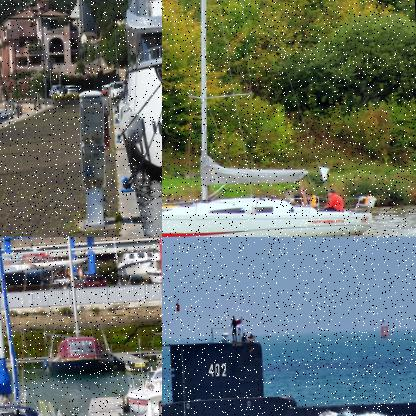Patrol Boat: (0, 240, 67, 292)
Sails Boat: (162, 0, 376, 236), (0, 237, 83, 415), (103, 237, 161, 415)
Submarine: (162, 313, 415, 415)
Yacht: (107, 0, 161, 219)
